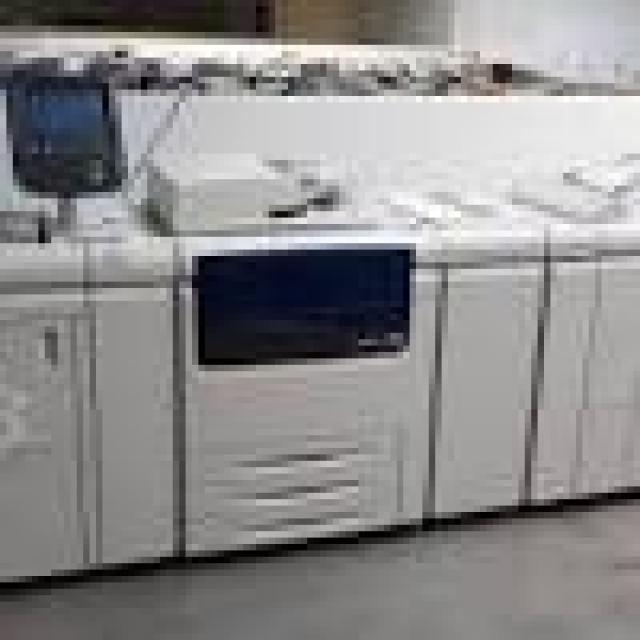printer: (152, 153, 440, 573), (399, 138, 640, 531), (12, 146, 180, 609)
